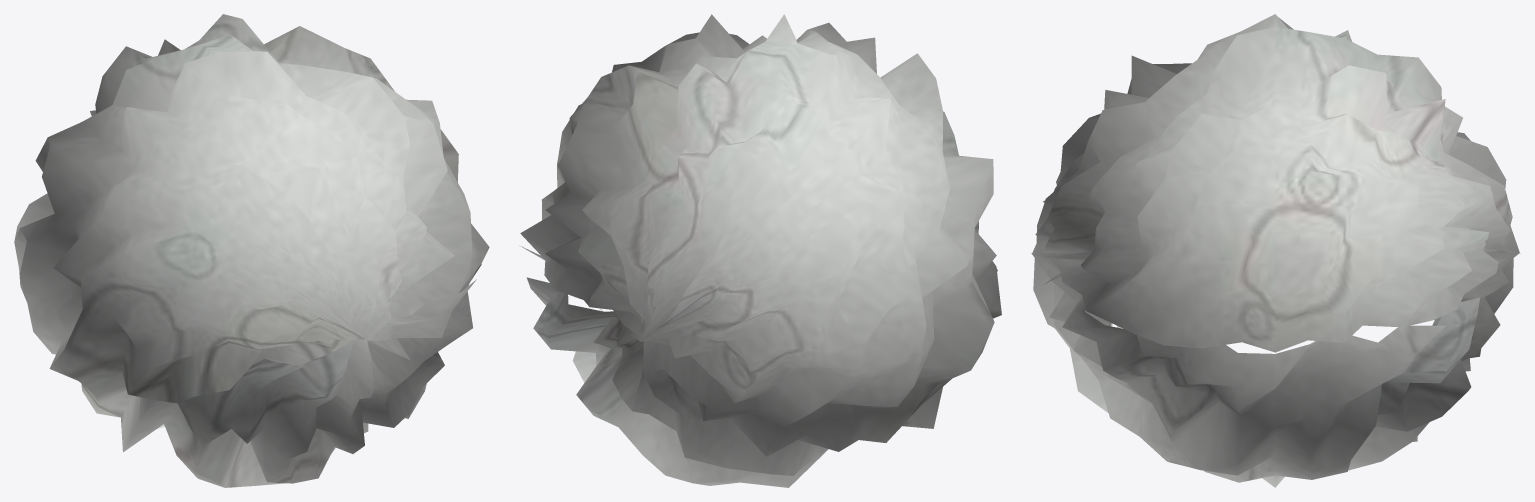
File: haumea.glb
3 renders of one model, left to right at view 1: azimuth 30°, elevation 25°; view 2: azimuth 150°, elevation 25°; view 3: azimuth 270°, elevation 25°, orthographic. The views are drawn at different scales.
Size of the model in its own units: 2.18 by 2.21 by 2.24.
Materials: 1 (1 with a texture image).
